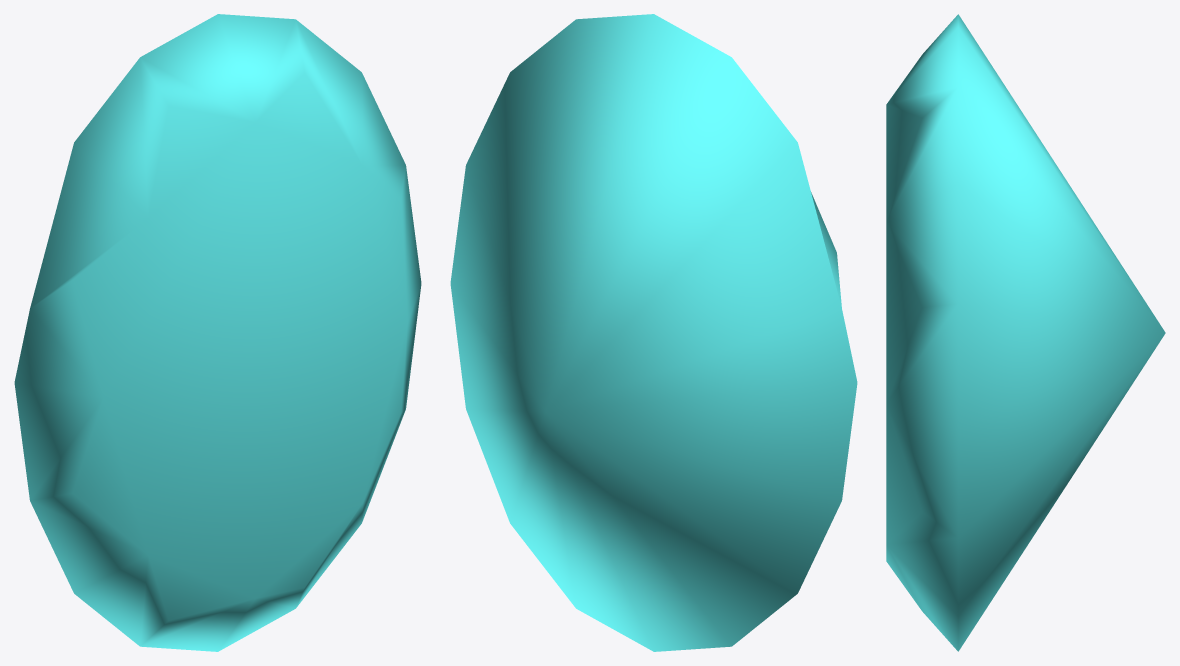
The model's file is ring.glb.
3 views of the same model, side by side, from view 1: azimuth 30°, elevation 25°; view 2: azimuth 150°, elevation 25°; view 3: azimuth 270°, elevation 25° (orthographic). The views are drawn at different scales.
Parts seen in each view (by area): view 1: Diamond; view 2: Diamond; view 3: Diamond.
Part boxes in pixels (x1,y1,x2,y2): Diamond: [14, 14, 421, 651]; Diamond: [450, 14, 857, 651]; Diamond: [886, 14, 1165, 651].
Bounding box in the file's own units: 0.00467 × 0.007 × 0.0029.
